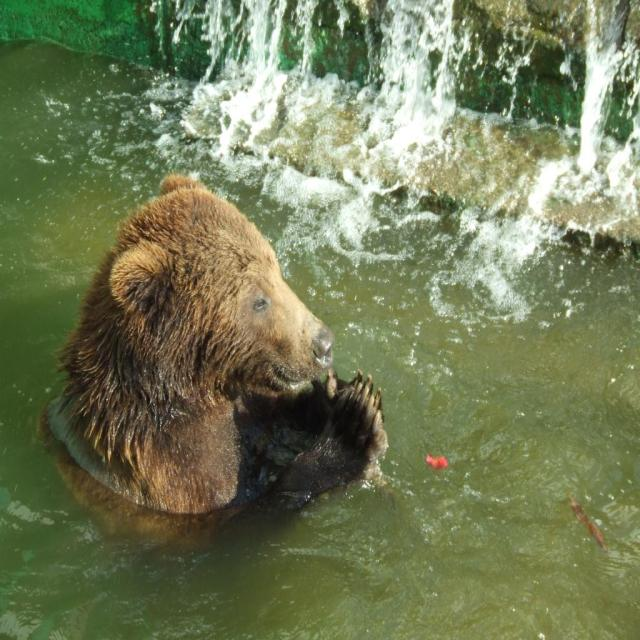Cheetahs: (32, 174, 393, 549)
